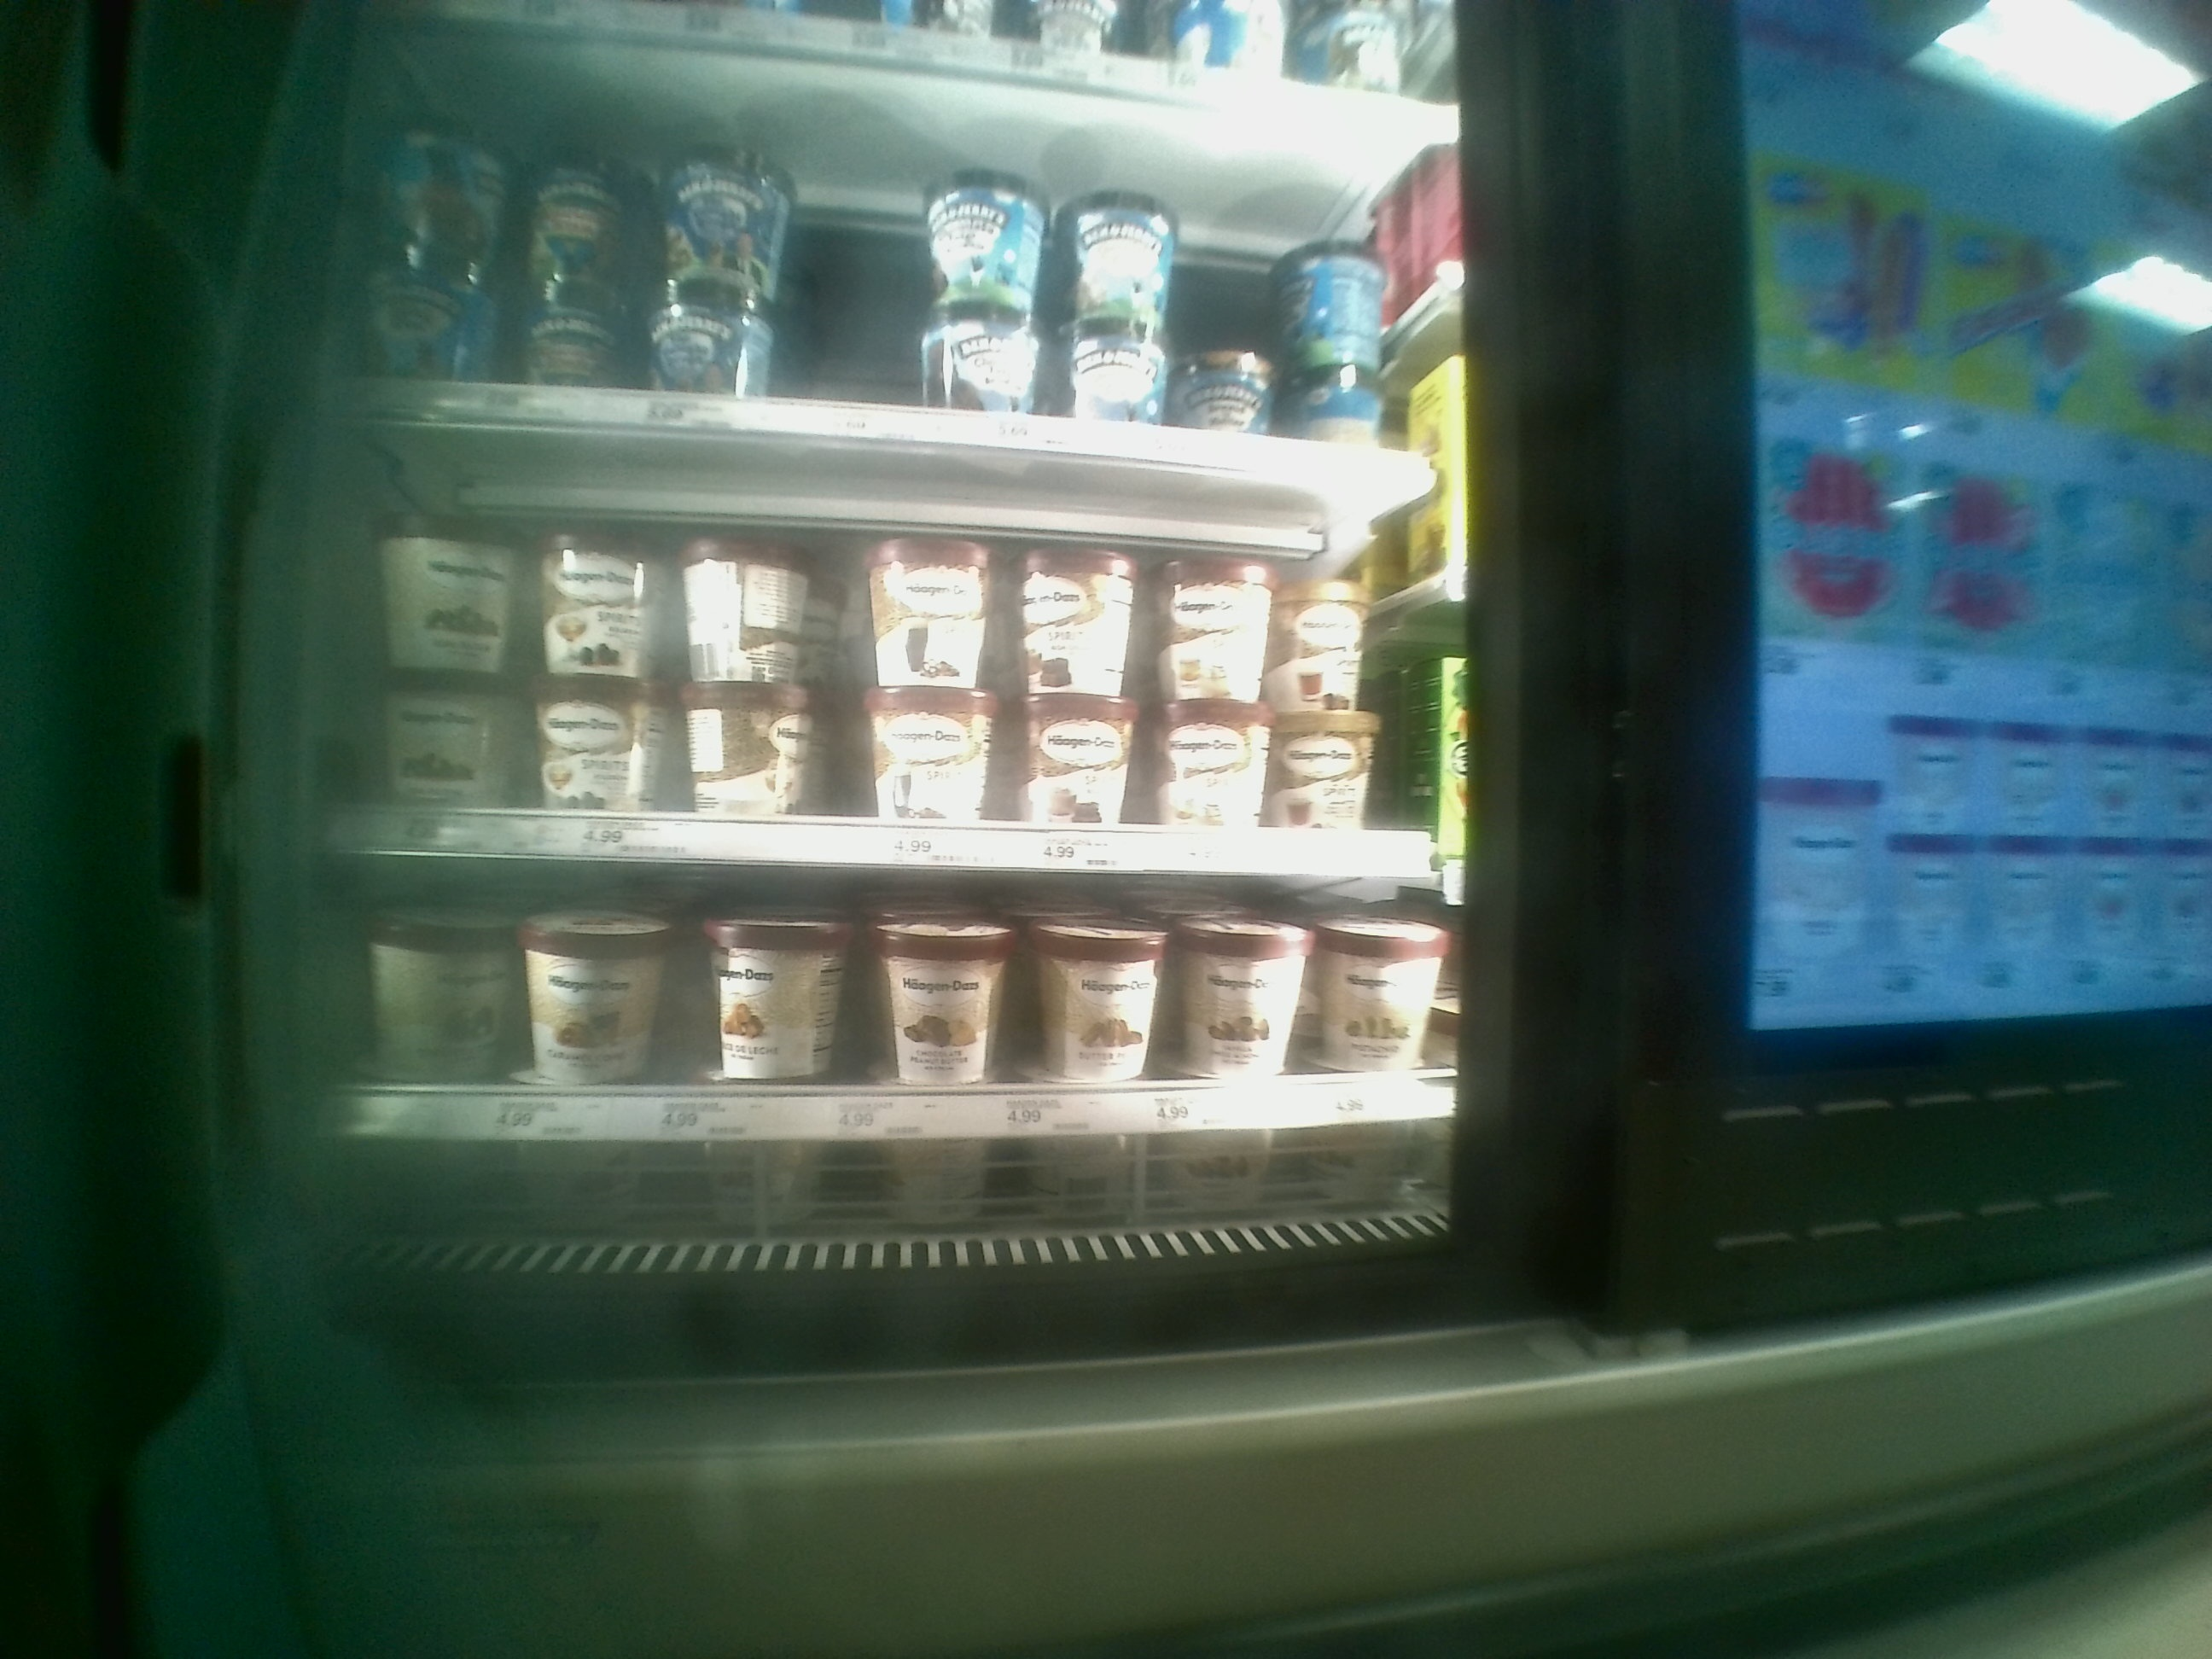ice-cream-shelf: (347, 859, 1465, 1122)
